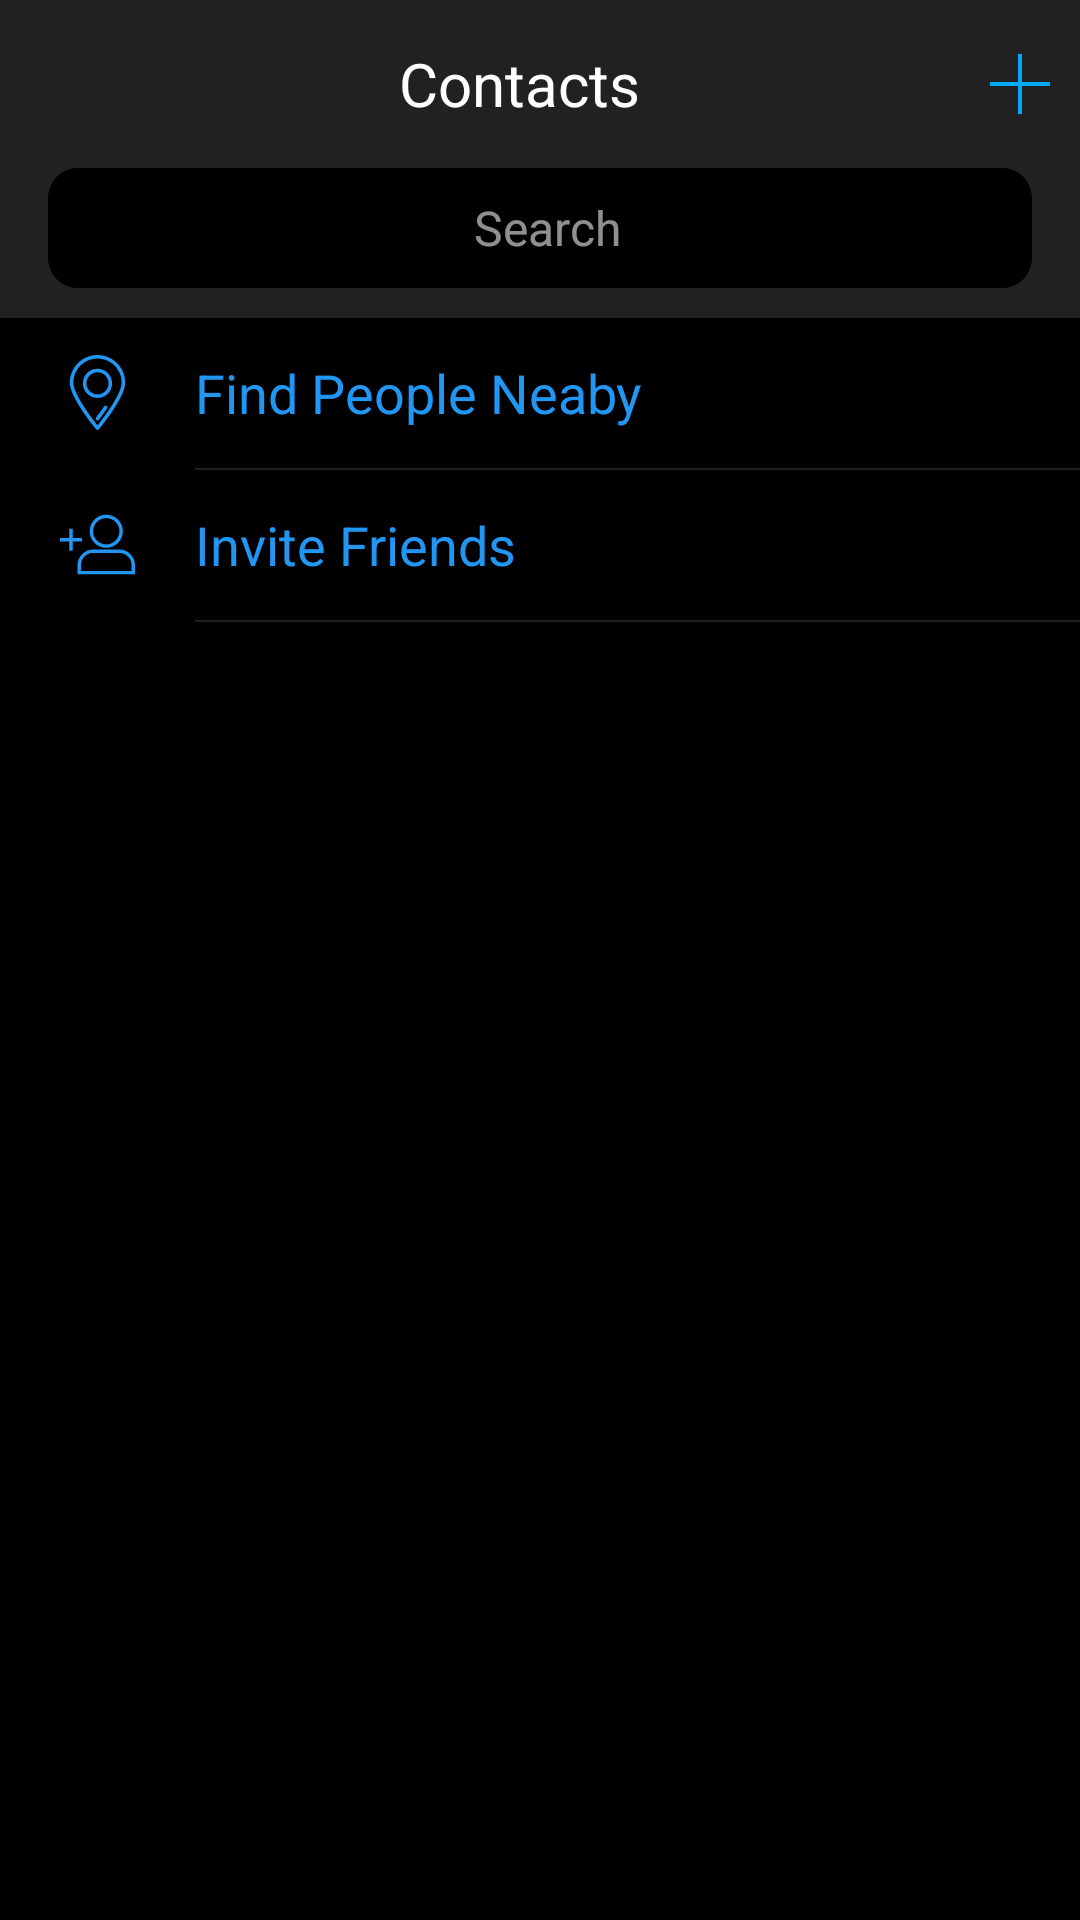

Icons on this 1080w x 1920h Android screen, each with the point to tap as point (x, y):
add user: point (97, 544)
location: point (97, 392)
plus: point (1020, 84)
